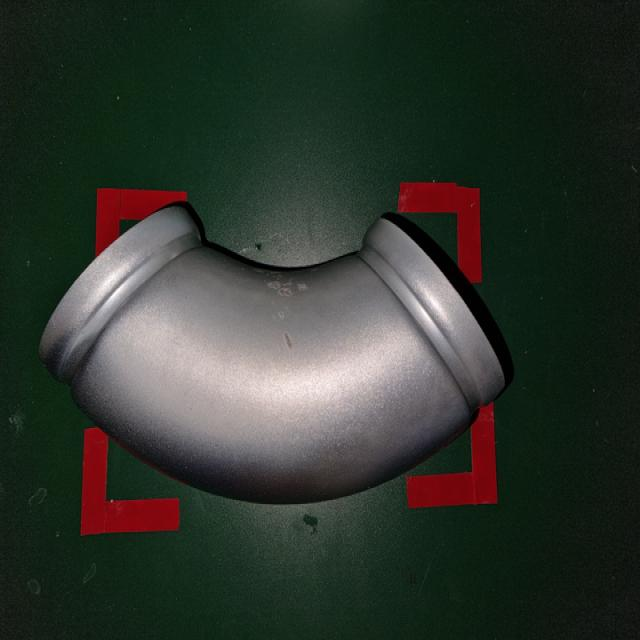Defect: (38, 195, 512, 510)
Hole: (240, 257, 322, 357)
